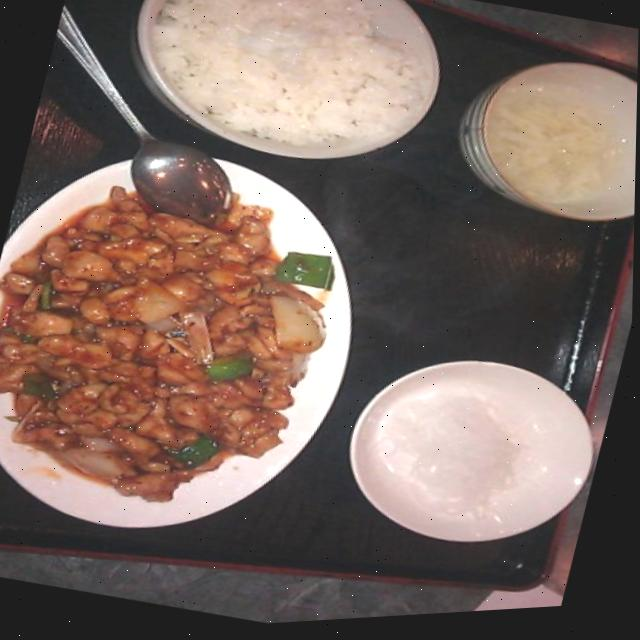牛肉菜式: (0, 98, 407, 572)
米饭主食: (103, 0, 473, 198)
